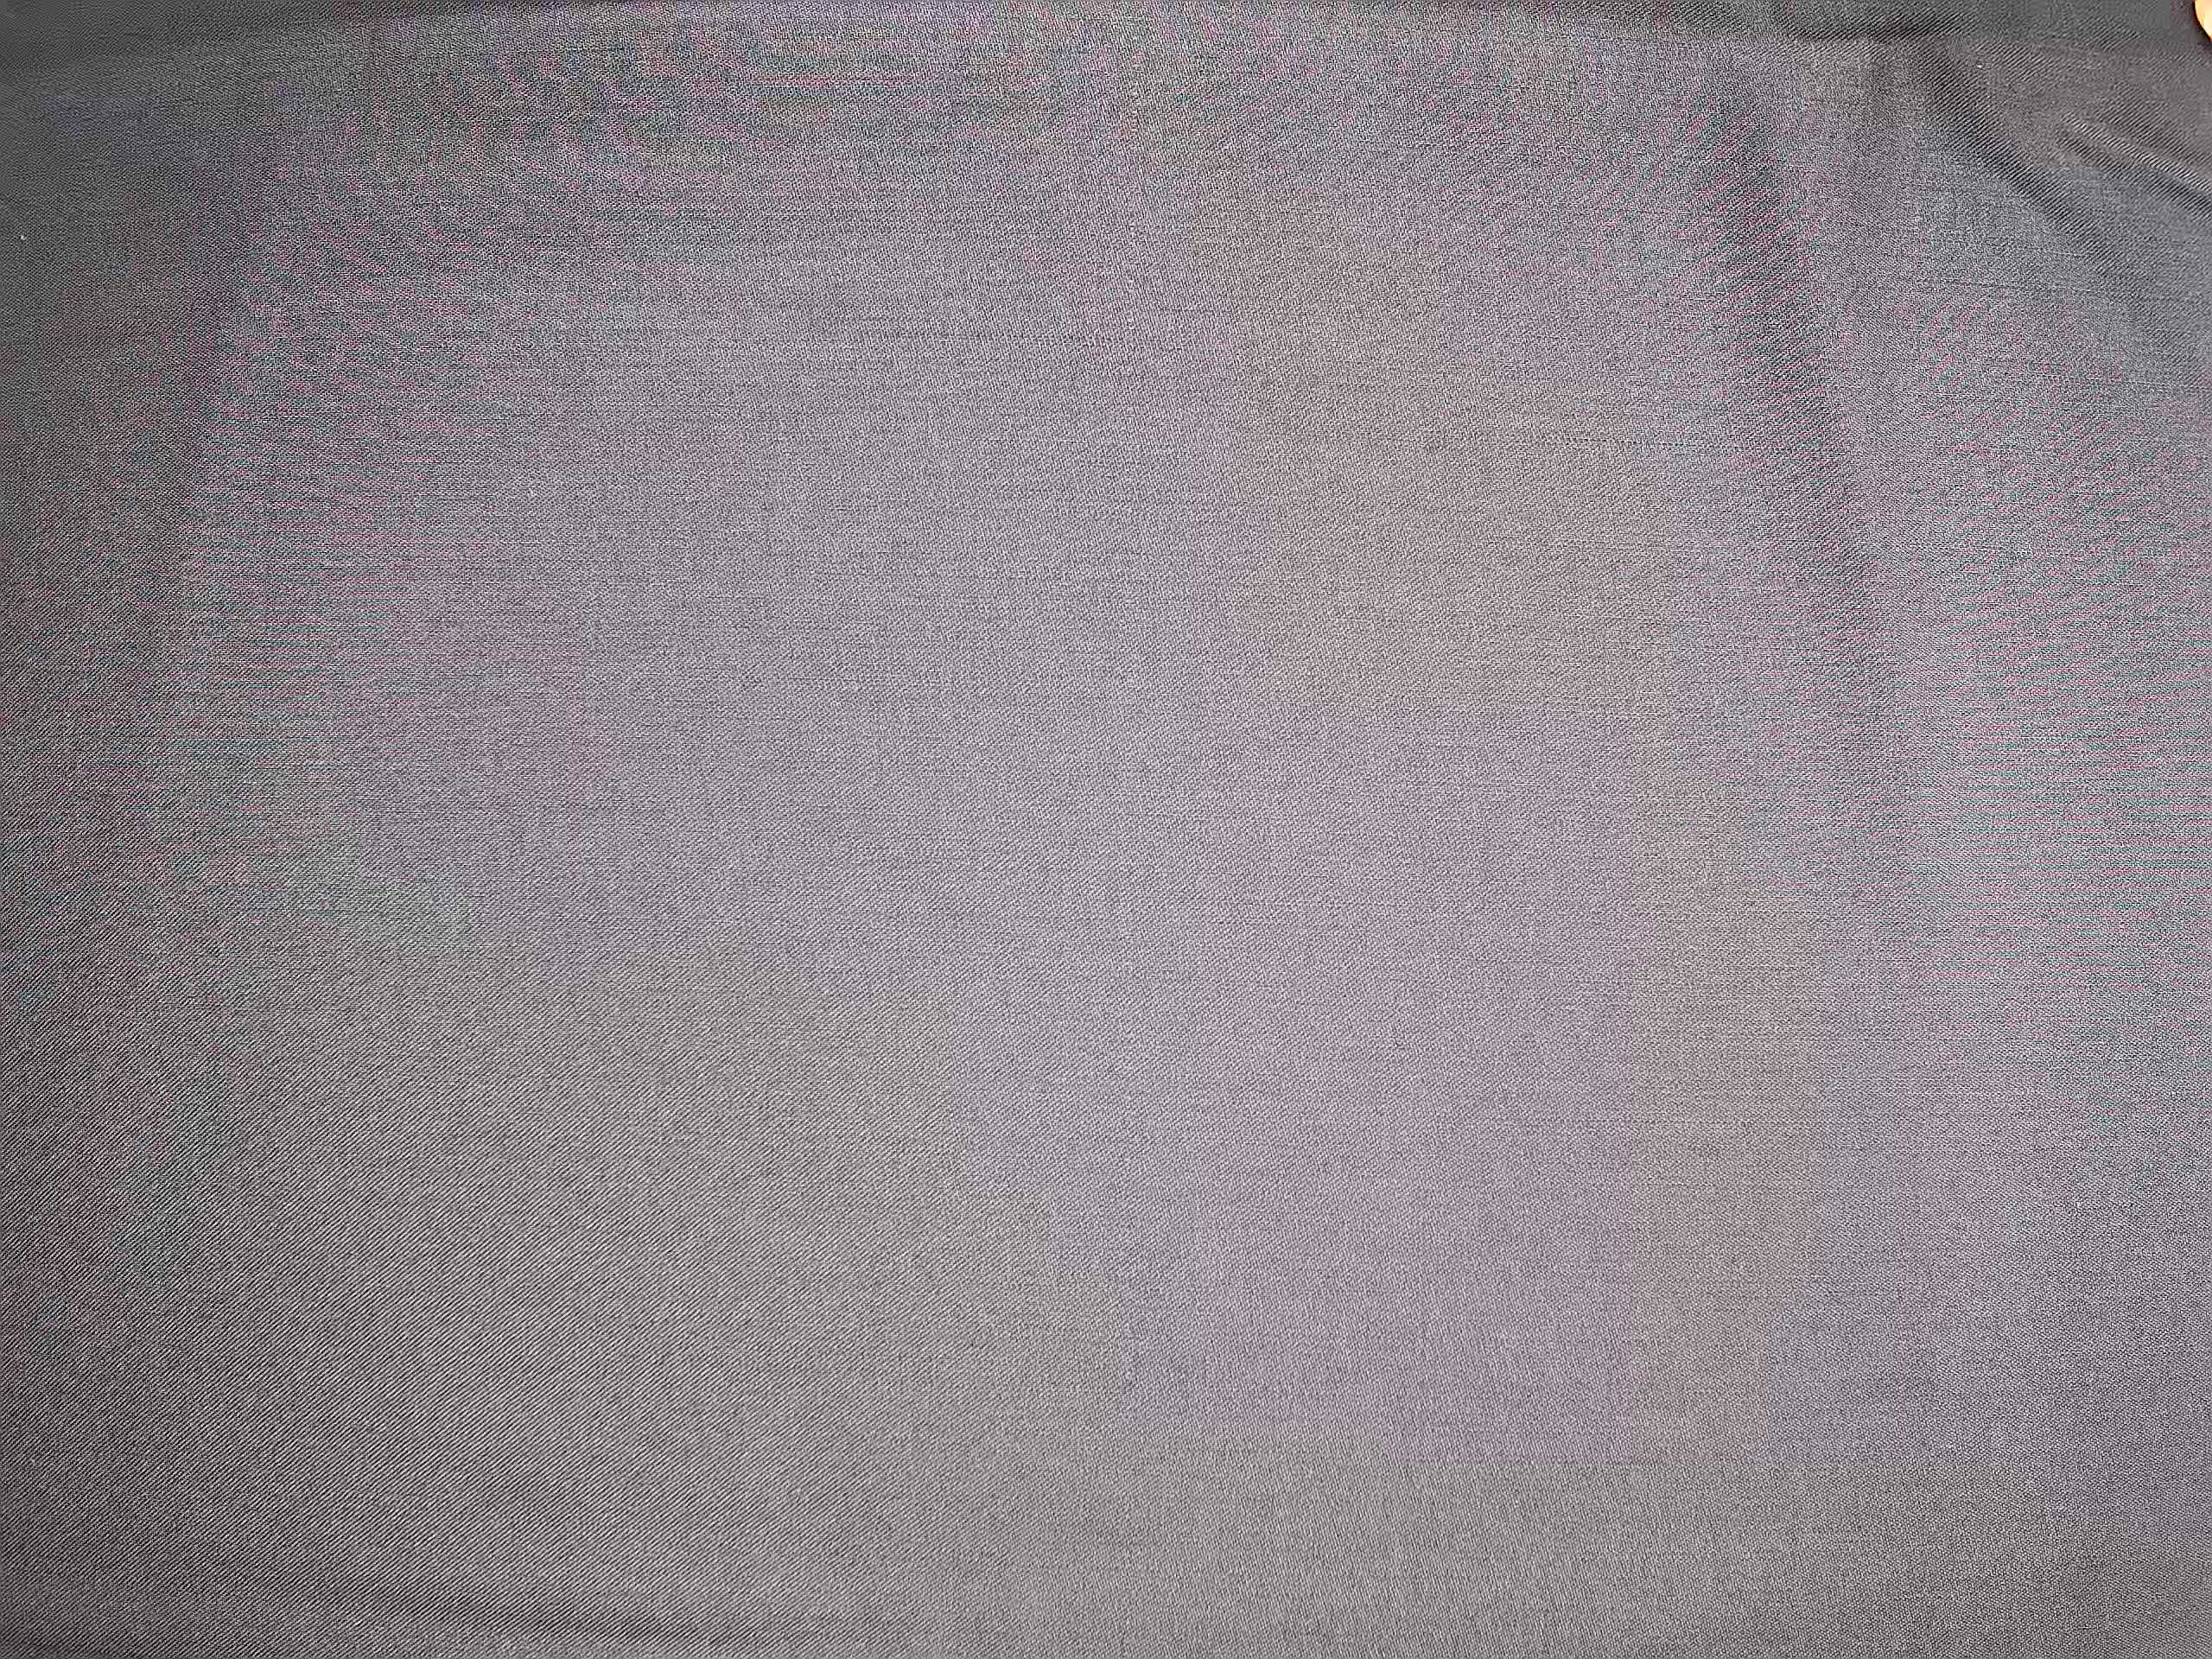jumps: (1465, 423, 1818, 462), (857, 321, 1186, 355)
